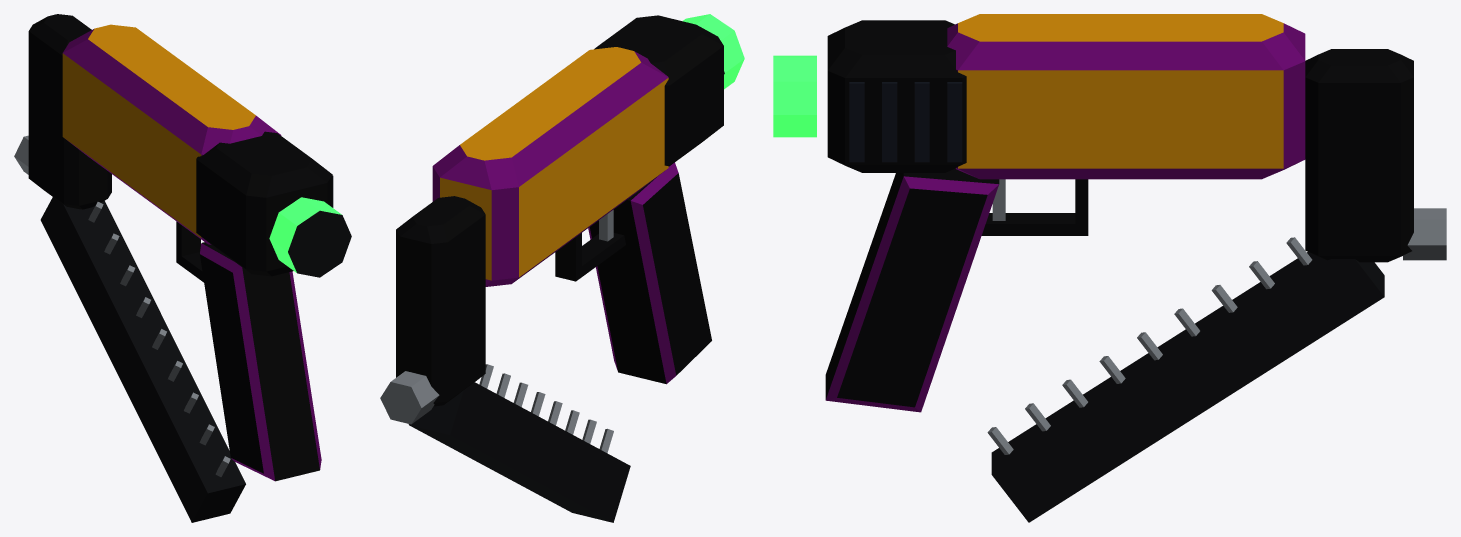
Rendered from SM_Wep_Nailgun.glb.
3 views of the same model, side by side, from view 1: azimuth 30°, elevation 25°; view 2: azimuth 150°, elevation 25°; view 3: azimuth 270°, elevation 25° (orthographic). The views are drawn at different scales.
Visible parts, largest first — view 1: SM_Wep_Nailgun, SM_Wep_Nailgun_Mag; view 2: SM_Wep_Nailgun, SM_Wep_Nailgun_Mag; view 3: SM_Wep_Nailgun, SM_Wep_Nailgun_Mag.
Part boxes in pixels (x1,y1,x2,y2): SM_Wep_Nailgun: (14, 14, 351, 481); SM_Wep_Nailgun_Mag: (40, 197, 245, 522); SM_Wep_Nailgun: (380, 14, 744, 424); SM_Wep_Nailgun_Mag: (408, 364, 630, 522); SM_Wep_Nailgun: (773, 14, 1446, 412); SM_Wep_Nailgun_Mag: (987, 237, 1384, 522).
Bounding box in the file's own units: 0.0556 × 0.2461 × 0.31.
Materials: 1 (1 with a texture image).
